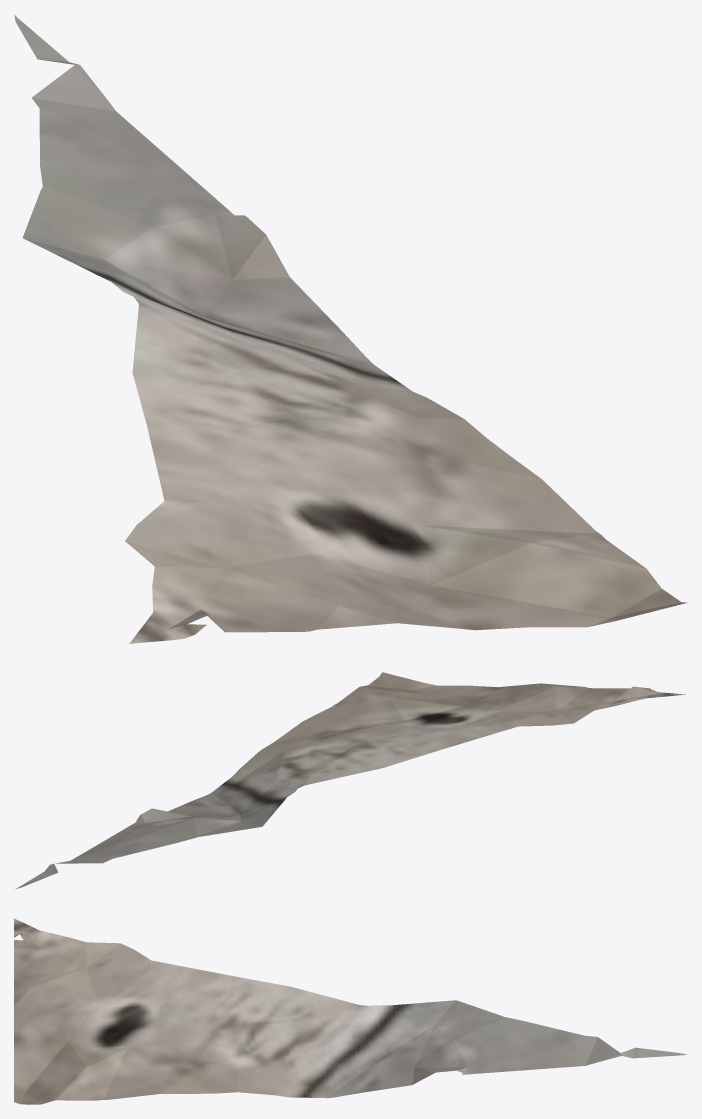
3 renders of one model, top to bottom at view 1: azimuth 30°, elevation 25°; view 2: azimuth 150°, elevation 25°; view 3: azimuth 270°, elevation 25°, orthographic. The views are drawn at different scales.
Size of the model in its own units: 0.2358 by 0.0418 by 0.4921.
Materials: 1 (1 with a texture image).
